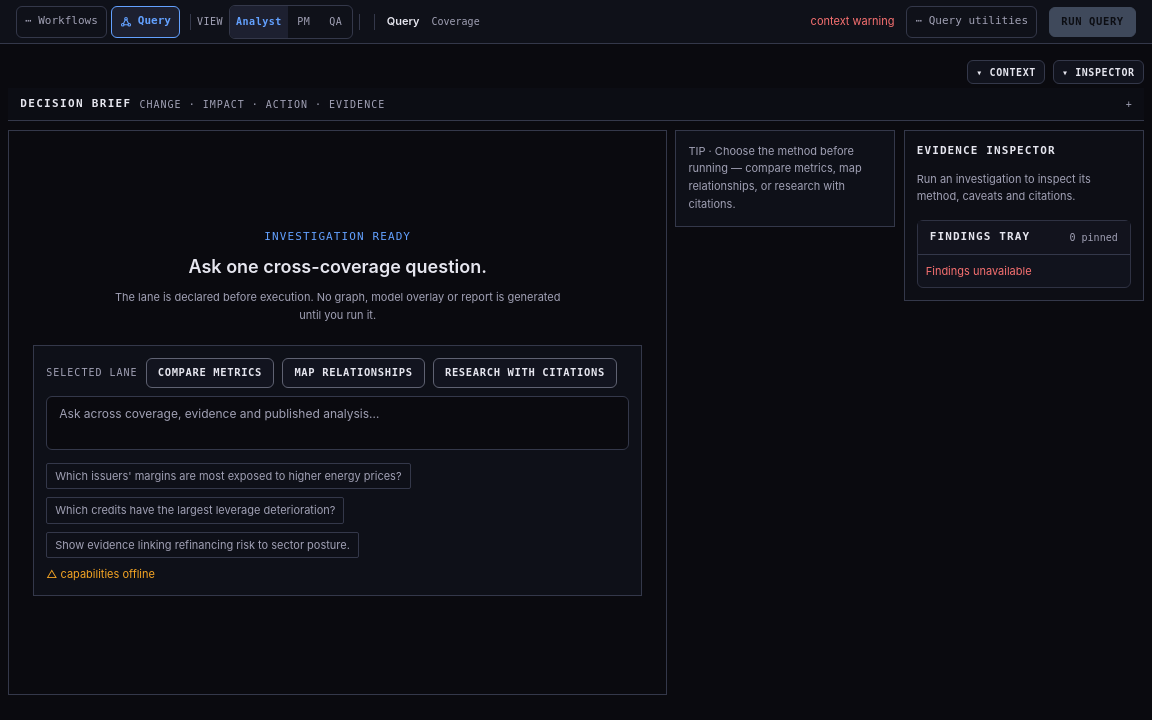
Test case: Query investigation edge interactions › surfaces capability, history, and context errors without disabling the loaded context
Expected: the text "△ capabilities offline" is shown, [46,568,155,582]
Expected: the text "context warning" is shown, [811,13,894,30]
Click the button with aria-label "Open Query utilities".
click(972, 22)  # box [906,6,1037,38]
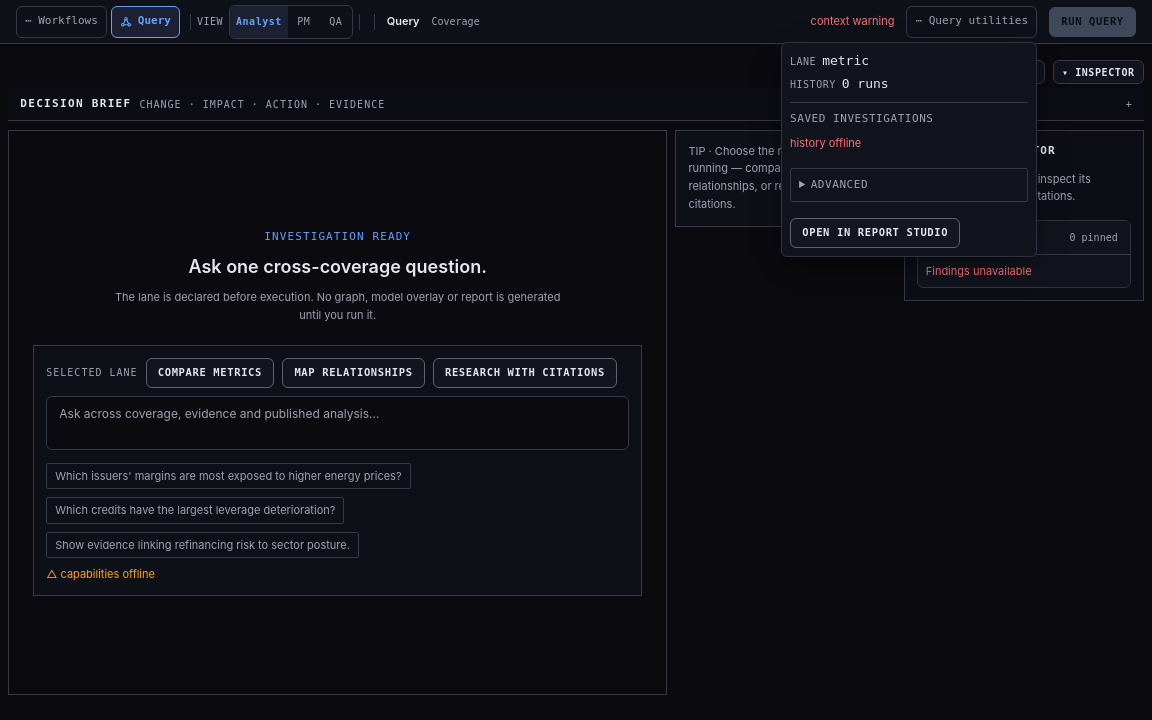
Expected: the text "history offline" is shown, [790,136,861,150]
